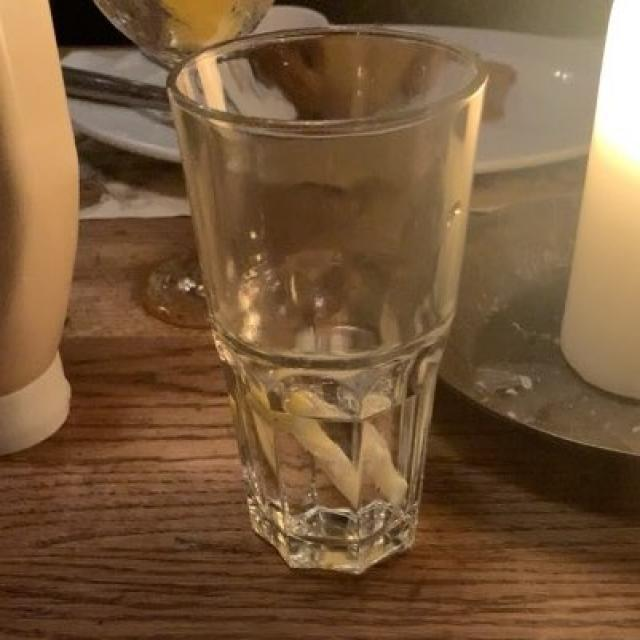water: (230, 397, 426, 545)
